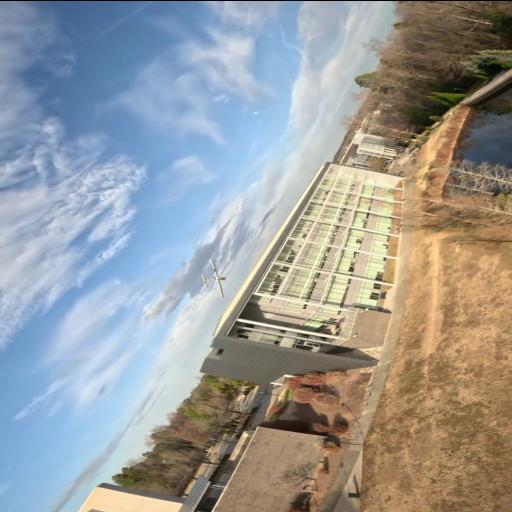uav: (196, 254, 232, 302)
